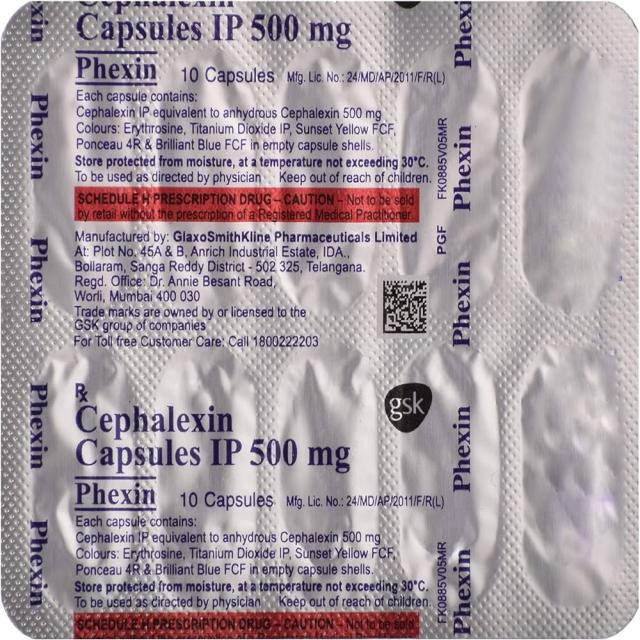Medicine-name: (71, 403, 358, 482)
